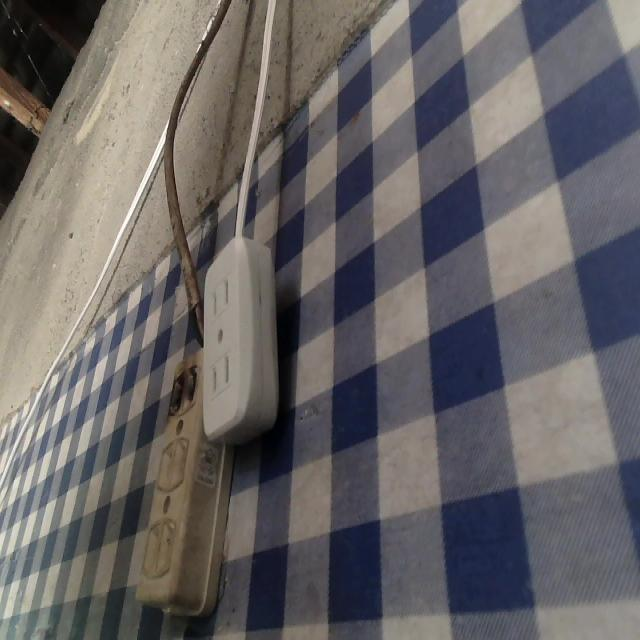-: (165, 358, 207, 414)
